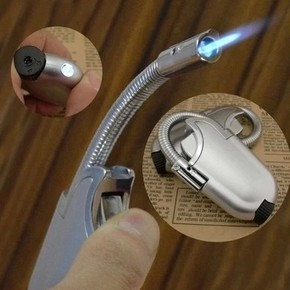fire: (188, 20, 264, 51)
